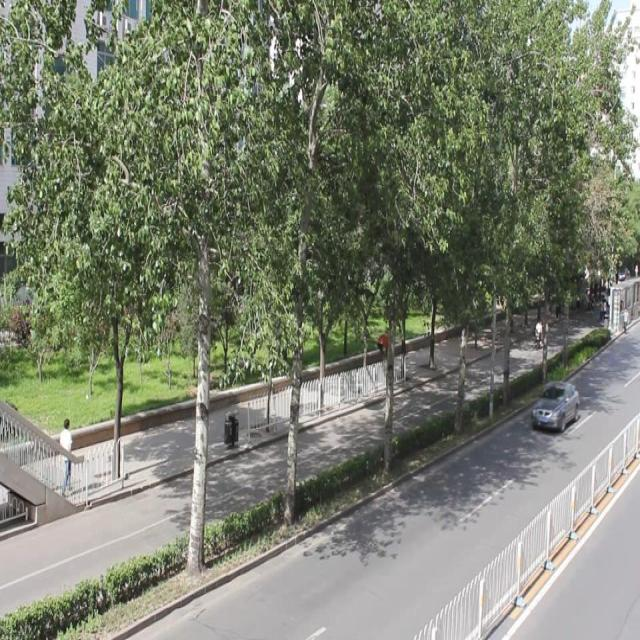car: (529, 377, 578, 431)
